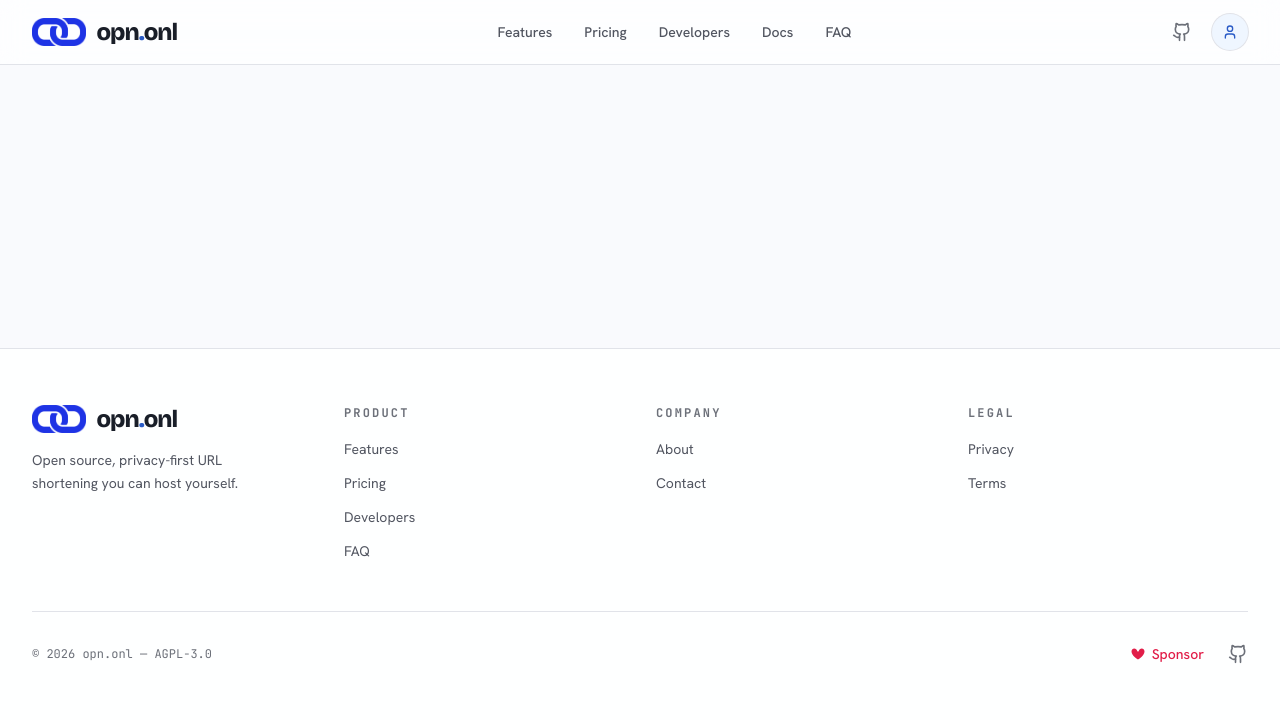
it: Layout auth and menus › closes the account menu when a menu link is clicked
The image size is (1280, 720).
Click the button named "account menu".
click(1230, 32)  # box [1212,14,1248,50]
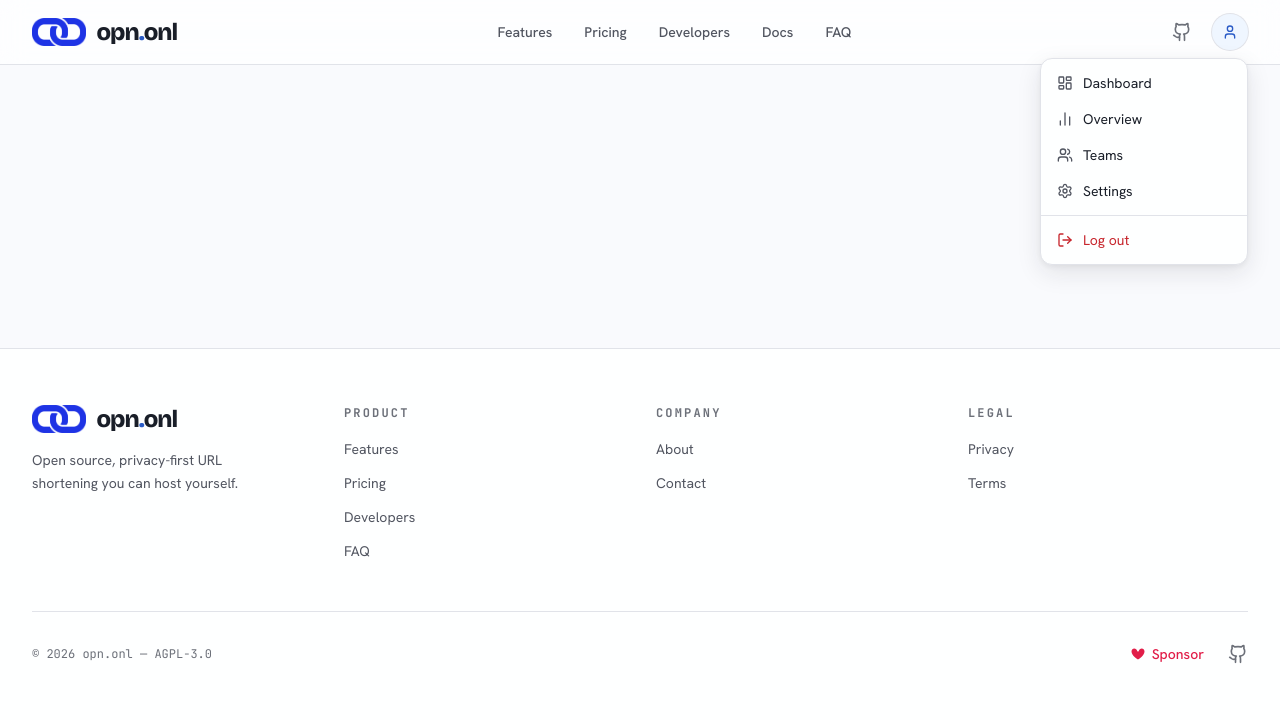
Check: the link "Settings" is shown
Click the link "Settings".
click(1095, 191)  # box [1057,182,1132,200]
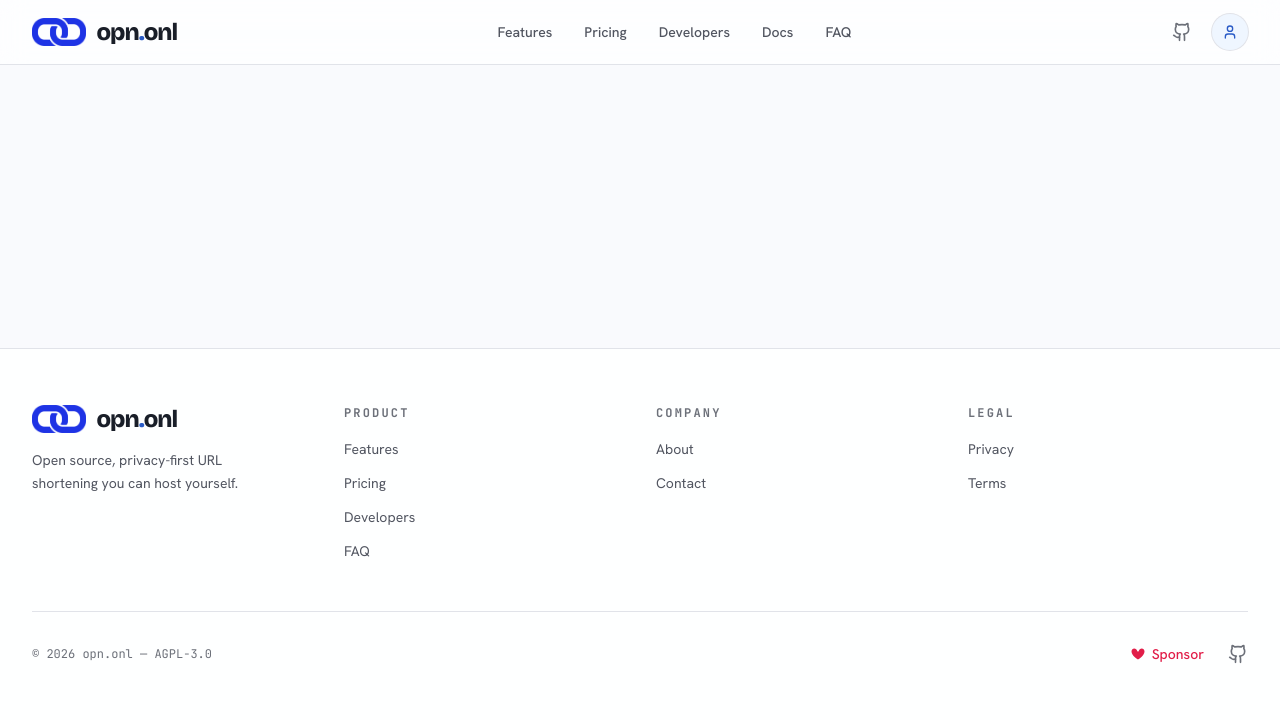
Check: the link "Settings" is gone
